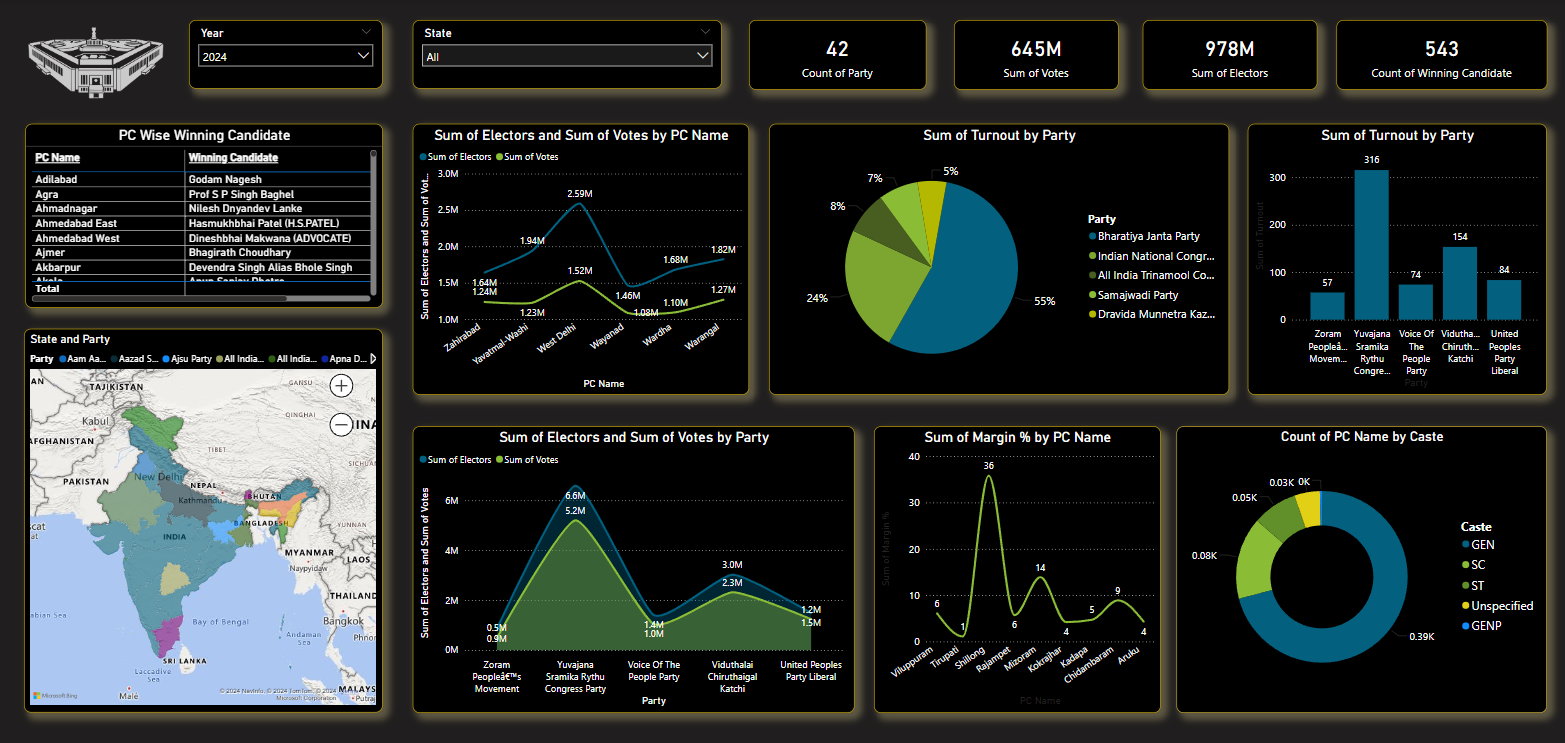

This screenshot's page, from the dashboard's own definition file:
{"tool":"powerbi","page":{"name":"Page 2","canvas":[2250,1070],"ordinal":0},"visuals":[{"type":"clusteredColumnChart","title":"Total of Electors and Votes by State","fields":{"Y":["Sum(Final_Election_Data (2004-2024)_sys.Electors)","Sum(Final_Election_Data (2004-2024)_sys.Votes)"],"Category":["Final_Election_Data (2004-2024)_sys.State"]},"box":[1092,614,582,408],"z":0},{"type":"pieChart","fields":{"Category":["Final_Election_Data (2004-2024)_sys.Party"],"Y":["Sum(Final_Election_Data (2004-2024)_sys.Turnout)"]},"box":[1204,176,562,388],"z":1000},{"type":"donutChart","fields":{"Category":["Final_Election_Data (2004-2024)_sys.Caste"],"Y":["CountNonNull(Final_Election_Data (2004-2024)_sys.PC Name)"]},"box":[1714,614,506,408],"z":2000},{"type":"clusteredColumnChart","fields":{"Category":["Final_Election_Data (2004-2024)_sys.Party"],"Y":["Sum(Final_Election_Data (2004-2024)_sys.Electors)","Sum(Final_Election_Data (2004-2024)_sys.Votes)"]},"box":[598,614,454,408],"z":3000},{"type":"slicer","fields":{"Values":["Final_Election_Data (2004-2024)_sys.Year"]},"box":[272.5,28.7,277.9,98.6],"z":4000},{"type":"slicer","fields":{"Values":["Final_Election_Data (2004-2024)_sys.State"]},"box":[598.8,28.7,442.8,98.6],"z":5000},{"type":"card","fields":{"Values":["Sum(Final_Election_Data (2004-2024)_sys.Electors)"]},"box":[1640,28,250,100],"z":6000},{"type":"card","fields":{"Values":["Sum(Final_Election_Data (2004-2024)_sys.Votes)"]},"box":[1370,28,236,100],"z":7000},{"type":"filledMap","fields":{"Category":["Final_Election_Data (2004-2024)_sys.State"],"Series":["Final_Election_Data (2004-2024)_sys.Party"]},"box":[36,472,514,550],"z":8000},{"type":"card","fields":{"Values":["Count(Final_Election_Data (2004-2024)_sys.Party)"]},"box":[1076,28,254,100],"z":9000},{"type":"clusteredColumnChart","fields":{"Category":["Final_Election_Data (2004-2024)_sys.Party"],"Y":["Sum(Final_Election_Data (2004-2024)_sys.Turnout)"]},"box":[1792,176,428,388],"z":10000},{"type":"lineStackedColumnComboChart","fields":{"Category":["Final_Election_Data (2004-2024)_sys.Year"],"Y":["Sum(Final_Election_Data (2004-2024)_sys.Electors)"],"Y2":["Sum(Final_Election_Data (2004-2024)_sys.Votes)"]},"box":[598,176,574,388],"z":11000},{"type":"card","fields":{"Values":["CountNonNull(Final_Election_Data (2004-2024)_sys.Winning Candidate)"]},"box":[1918,28,302,100],"z":12000},{"type":"tableEx","title":"PC Wise Winning Candidate","fields":{"Values":["Final_Election_Data (2004-2024)_sys.PC Name","Final_Election_Data (2004-2024)_sys.Winning Candidate","Sum(Final_Election_Data (2004-2024)_sys.Votes)"]},"box":[36.1,176.9,514.3,265.3],"z":13000},{"type":"image","box":[35.9,28.7,206.2,121.9],"z":14000}]}

Visuals, with their boxes in screenshot pixels (x1, y1, x2, y2), scaled from the page's 2250x1070 canvas onto the 1565x743 screenshot:
"Total of Electors and Votes by State" clusteredColumnChart: 760,426,1164,710
pieChart - Final_Election_Data (2004-2024)_sys.Party x Sum(Final_Election_Data (2004-2024)_sys.Turnout): 837,122,1228,392
donutChart - Final_Election_Data (2004-2024)_sys.Caste x CountNonNull(Final_Election_Data (2004-2024)_sys.PC Name): 1192,426,1544,710
clusteredColumnChart - Final_Election_Data (2004-2024)_sys.Party x Sum(Final_Election_Data (2004-2024)_sys.Electors): 416,426,732,710
slicer - Final_Election_Data (2004-2024)_sys.Year: 190,20,383,88
slicer - Final_Election_Data (2004-2024)_sys.State: 416,20,724,88
card - Sum(Final_Election_Data (2004-2024)_sys.Electors): 1141,19,1315,89
card - Sum(Final_Election_Data (2004-2024)_sys.Votes): 953,19,1117,89
filledMap - Final_Election_Data (2004-2024)_sys.State x Final_Election_Data (2004-2024)_sys.Party: 25,328,383,710
card - Count(Final_Election_Data (2004-2024)_sys.Party): 748,19,925,89
clusteredColumnChart - Final_Election_Data (2004-2024)_sys.Party x Sum(Final_Election_Data (2004-2024)_sys.Turnout): 1246,122,1544,392
lineStackedColumnComboChart - Final_Election_Data (2004-2024)_sys.Year x Sum(Final_Election_Data (2004-2024)_sys.Electors): 416,122,815,392
card - CountNonNull(Final_Election_Data (2004-2024)_sys.Winning Candidate): 1334,19,1544,89
"PC Wise Winning Candidate" tableEx: 25,123,383,307
image: 25,20,168,105
